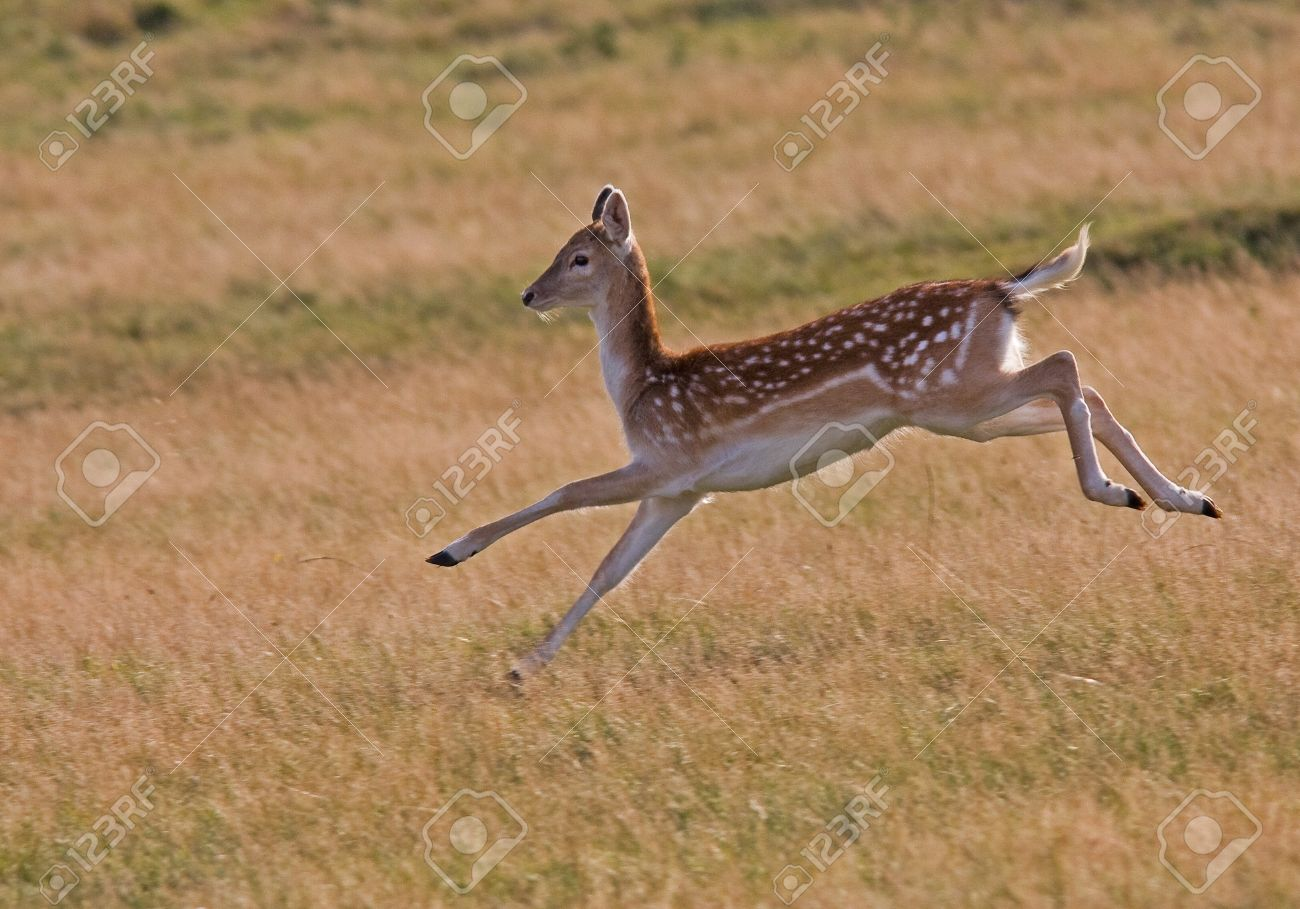Deer: (423, 184, 1223, 676)
